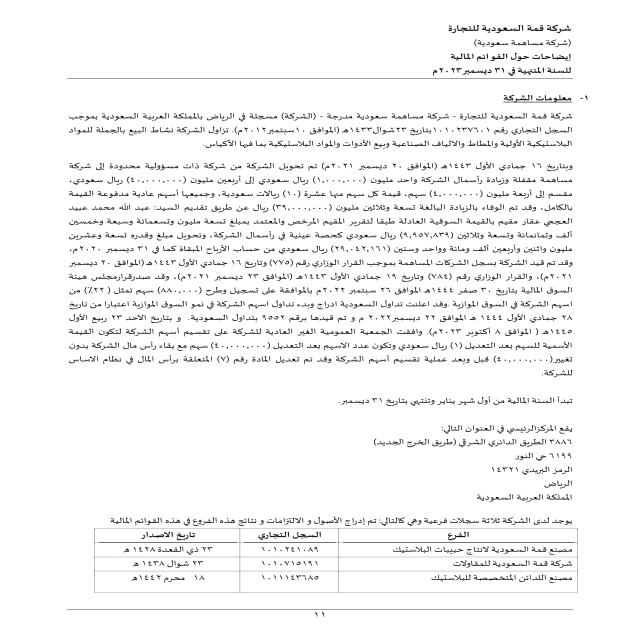notes: (444, 49, 592, 61)
table: (86, 522, 602, 602)
